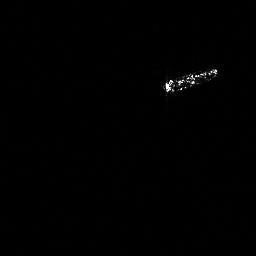ship: (161, 65, 221, 99)
